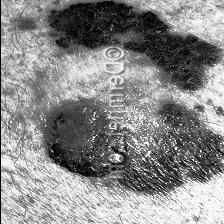Potentially Malignant Skin Tumors: (136, 23, 224, 201), (33, 0, 105, 180), (104, 6, 156, 38)
